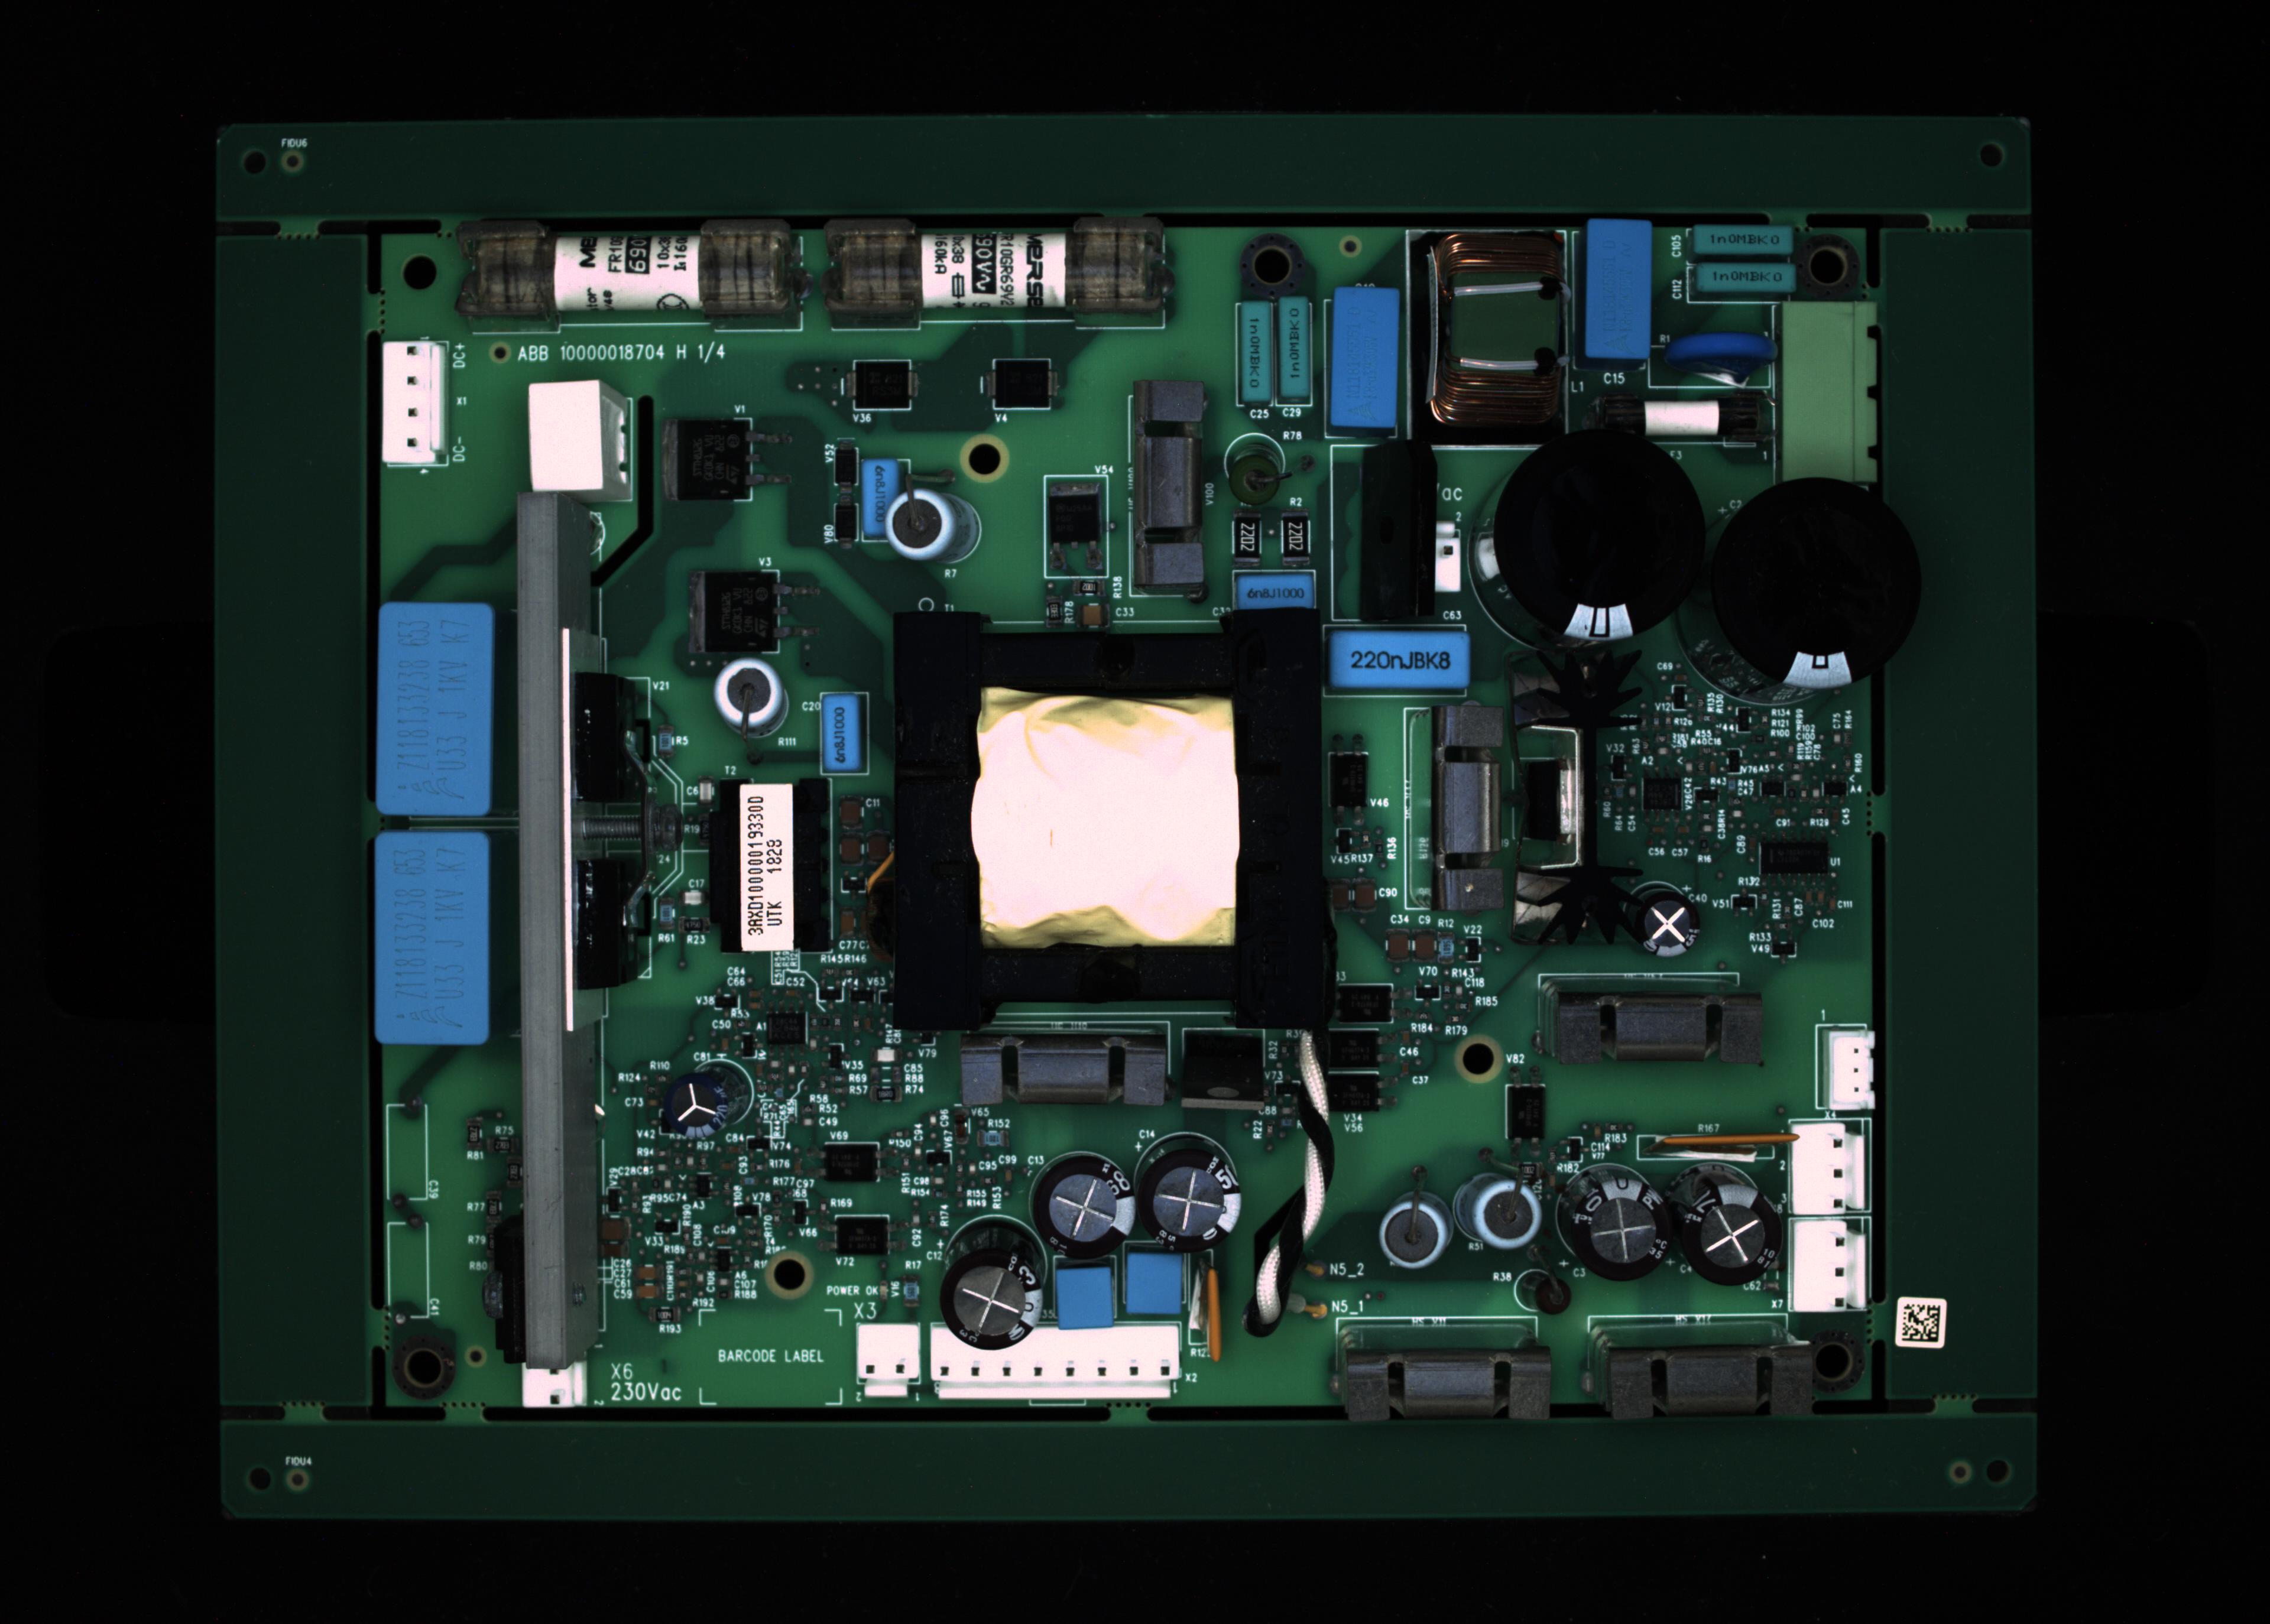10_p: (1648, 346, 1772, 394)
11_q: (1783, 302, 1876, 482)
12_r: (1591, 387, 1776, 455)
13_s: (383, 341, 443, 460)
14_t: (529, 381, 631, 503)
15_e: (863, 460, 897, 534)
16_k: (886, 490, 981, 564)
17_u: (1127, 385, 1206, 594)
18_v: (1233, 571, 1317, 610)
19_w: (1338, 629, 1468, 691)
1_a: (457, 216, 807, 325)
20_f: (1435, 522, 1461, 592)
21_g: (1491, 425, 1711, 640)
22_g: (1716, 475, 1920, 689)
23_h: (376, 603, 491, 817)
24_h: (376, 835, 487, 1044)
25_f: (522, 1362, 587, 1406)
26_f: (858, 1323, 918, 1397)
27_x: (934, 1327, 1180, 1399)
28_i: (1134, 1146, 1241, 1250)
29_i: (1032, 1151, 1136, 1260)
2_a: (819, 216, 1160, 322)
30_i: (941, 1244, 1044, 1350)
31_j: (1059, 1269, 1115, 1329)
32_j: (1122, 1255, 1183, 1313)
33_e: (823, 692, 862, 772)
34_k: (1375, 1190, 1456, 1271)
35_k: (1454, 1171, 1542, 1248)
36_i: (1567, 1176, 1672, 1281)
37_i: (1681, 1181, 1785, 1287)
38_l: (1331, 1318, 1560, 1424)
39_l: (1581, 1316, 1823, 1418)
3_b: (1238, 299, 1270, 401)
40_l: (1539, 977, 1771, 1069)
41_y: (1431, 707, 1505, 919)
42_z: (1829, 1030, 1873, 1109)
43_m: (1790, 1121, 1864, 1214)
44_m: (1795, 1218, 1864, 1313)
45_i: (661, 1070, 733, 1141)
46_n: (1338, 982, 1393, 1023)
47_n: (826, 1139, 881, 1181)
48_n: (839, 1214, 888, 1251)
49_aa: (767, 1009, 809, 1044)
4_b: (1280, 295, 1308, 399)
50_n: (1328, 1030, 1380, 1067)
51_n: (1324, 1074, 1375, 1111)
52_ab: (1329, 740, 1377, 831)
53_ac: (1656, 1130, 1795, 1155)
54_ad: (1199, 1253, 1227, 1364)
55_l: (964, 1021, 1168, 1107)
56_ae: (1178, 1032, 1270, 1113)
57_af: (1509, 645, 1644, 951)
58_i: (1633, 888, 1702, 954)
59_o: (997, 359, 1051, 408)
5_c: (1331, 286, 1400, 425)
60_o: (853, 359, 911, 410)
6_6: (1419, 232, 1572, 425)
7_c: (1586, 218, 1646, 359)
8_d: (1693, 225, 1790, 253)
9_d: (1699, 262, 1795, 295)
